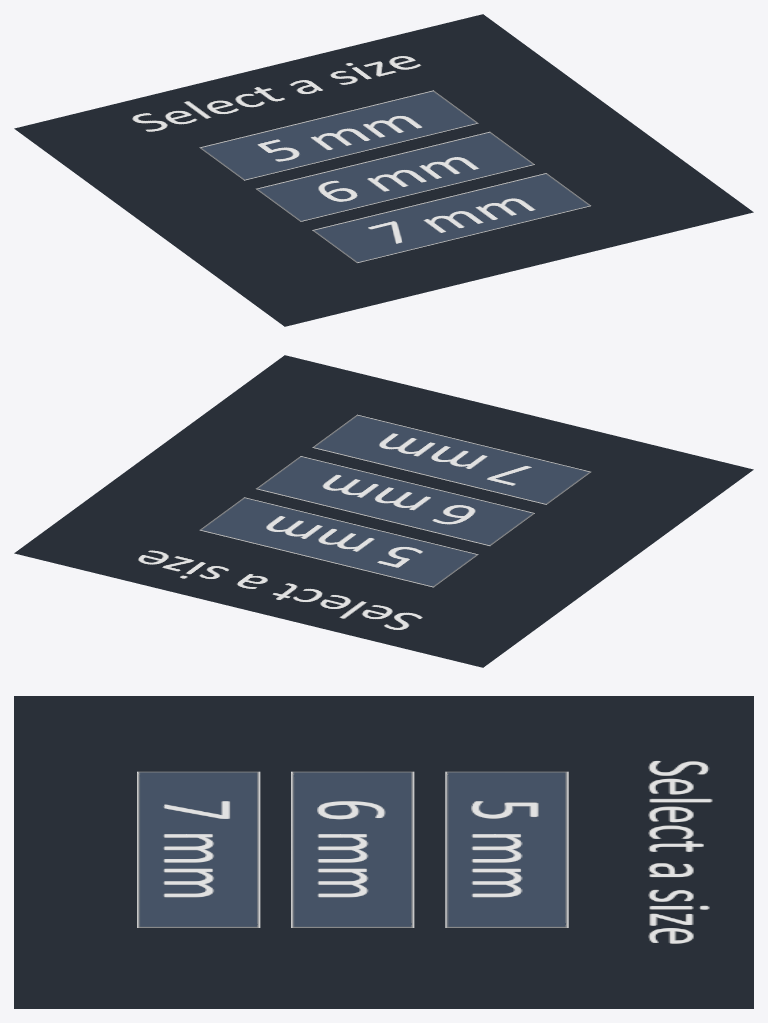
The model's file is AllenKeyMenu_567.glb.
3 views of the same model, one above another, from view 1: azimuth 30°, elevation 25°; view 2: azimuth 150°, elevation 25°; view 3: azimuth 270°, elevation 25° (orthographic). The views are drawn at different scales.
Visible parts, largest first — view 1: Plane, Plane.003, Plane.008, Plane.009; view 2: Plane, Plane.008, Plane.003, Plane.009; view 3: Plane, Plane.008, Plane.003, Plane.009.
Boxes of the visible parts, x1,y1,x2,y2 form: Plane: (14,14,753,326); Plane.003: (312,173,590,262); Plane.008: (199,90,478,180); Plane.009: (256,131,534,221); Plane: (14,355,753,667); Plane.008: (199,497,478,587); Plane.003: (312,414,590,504); Plane.009: (256,456,534,545); Plane: (14,696,753,1008); Plane.008: (445,771,568,927); Plane.003: (137,771,260,927); Plane.009: (291,771,414,927).
Size of the model in its own units: 0.24 by 0.001 by 0.24.
Materials: 4 (4 with a texture image).
